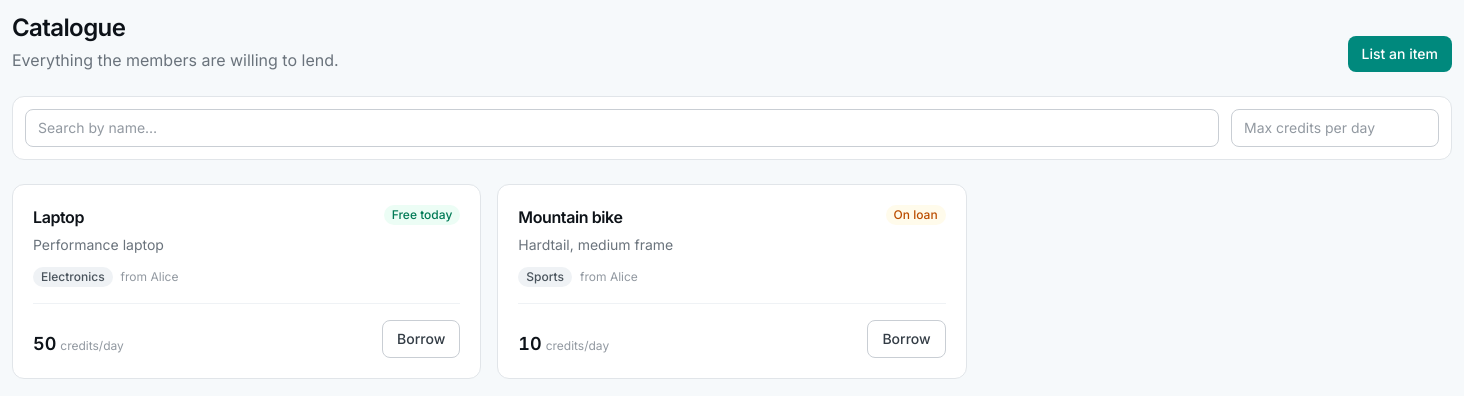
Test: the catalogue › offers a way back once a filter is on
Expected: the link "Laptop" is shown, [33, 205, 84, 229]
Expected: the button "Clear" is not shown
Type "bike" into the field labelled "Search by name" at {"x": 622, "y": 128}, box [25, 109, 1219, 147]
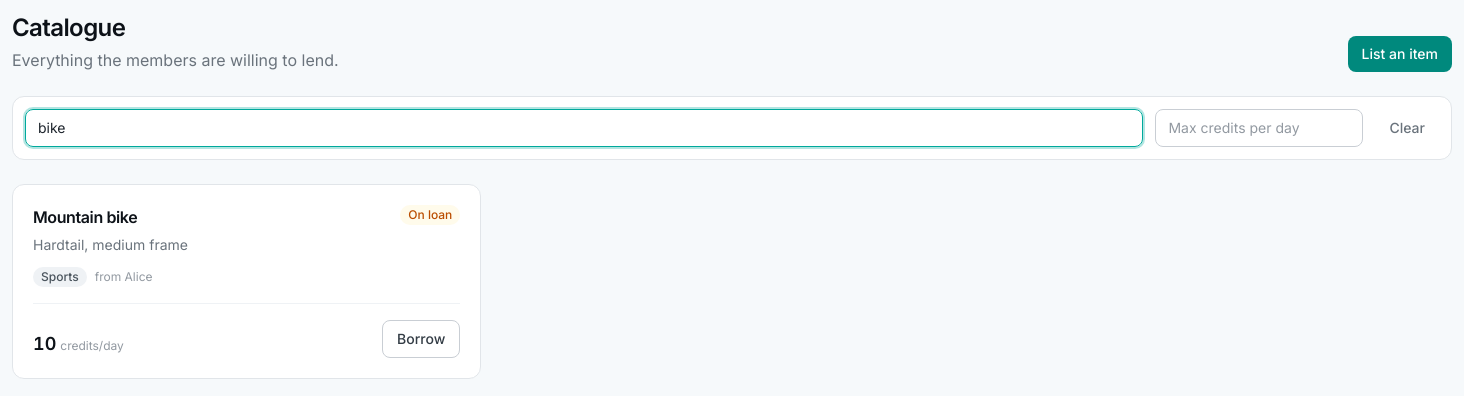
Click the button "Clear" at {"x": 1407, "y": 128}, box [1376, 109, 1439, 147]
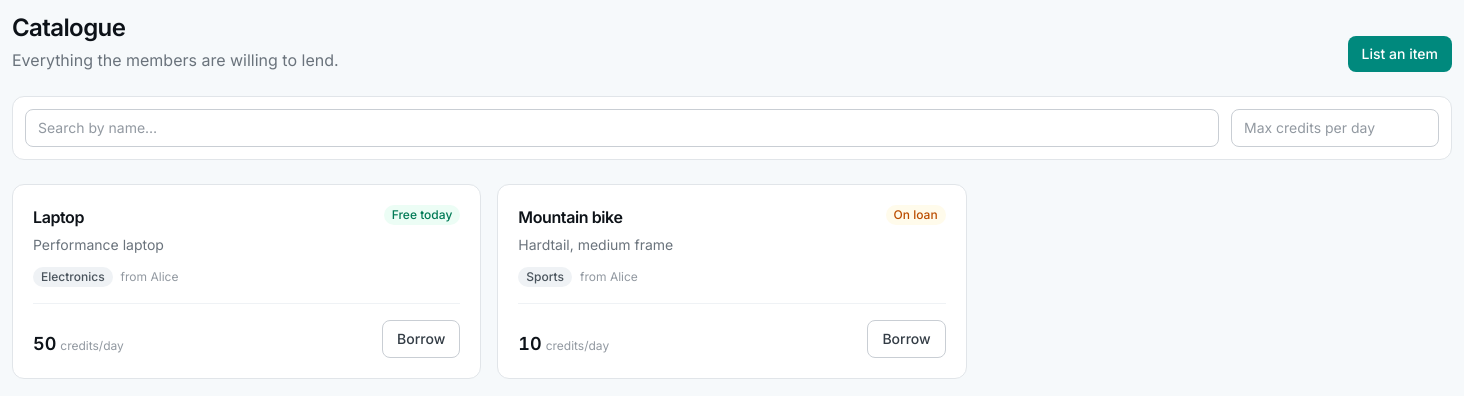
Expected: the link "Laptop" is shown, [33, 205, 84, 229]
